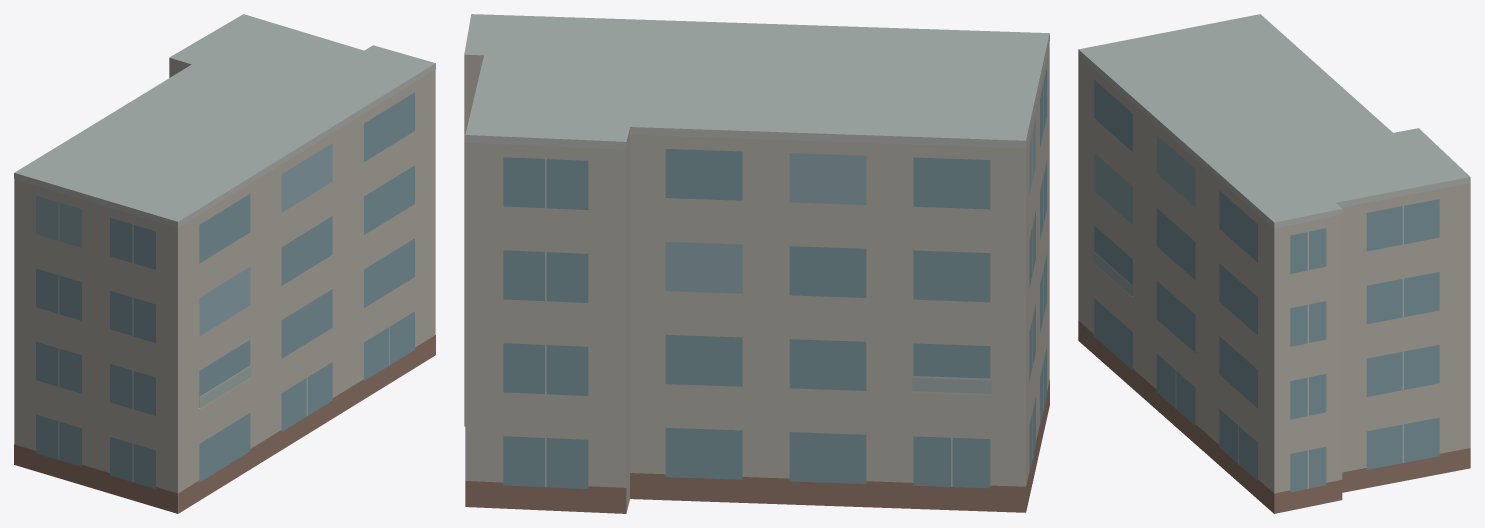
The model's file is survey-upis-32937354.glb.
3 views of the same model, side by side, from view 1: azimuth 30°, elevation 25°; view 2: azimuth 150°, elevation 25°; view 3: azimuth 270°, elevation 25° (orthographic). The views are drawn at different scales.
Parts seen in each view (by area): view 1: survey-upis-32937354.tmp; view 2: survey-upis-32937354.tmp; view 3: survey-upis-32937354.tmp.
Boxes of the visible parts, x1,y1,x2,y2 form: survey-upis-32937354.tmp: [14, 14, 435, 513]; survey-upis-32937354.tmp: [464, 14, 1049, 513]; survey-upis-32937354.tmp: [1078, 14, 1470, 513].
Size of the model in its own units: 18.13 by 11.8 by 14.41.
